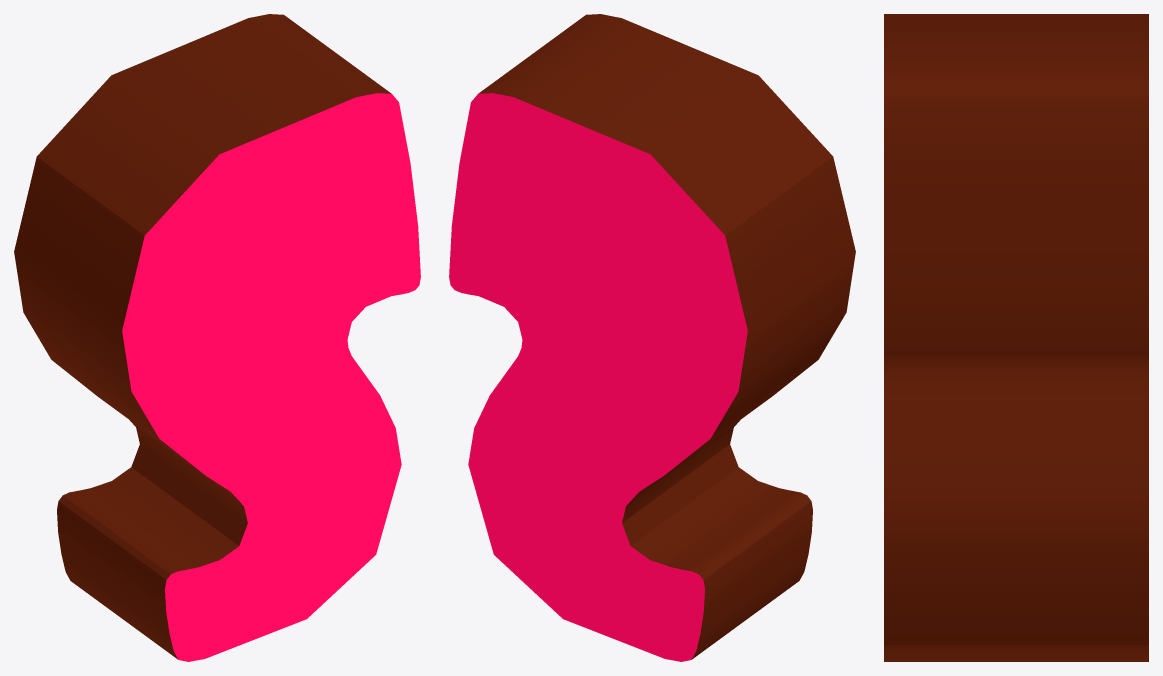
The picture shows the model from 3 angles, left to right: view 1: azimuth 30°, elevation 25°; view 2: azimuth 150°, elevation 25°; view 3: azimuth 270°, elevation 25°; orthographic projection. The views are drawn at different scales.
Parts seen in each view (by area): view 1: s; view 2: s; view 3: s.
Part boxes in pixels (left/top/right/bottom): s: left=14, top=14, right=420, bottom=661; s: left=449, top=14, right=855, bottom=661; s: left=884, top=14, right=1148, bottom=661.
Bounding box in the file's own units: 0.2874 × 0.4824 × 0.18.
